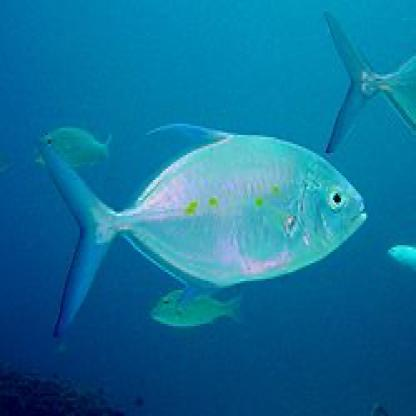Bio: (23, 106, 370, 337)
